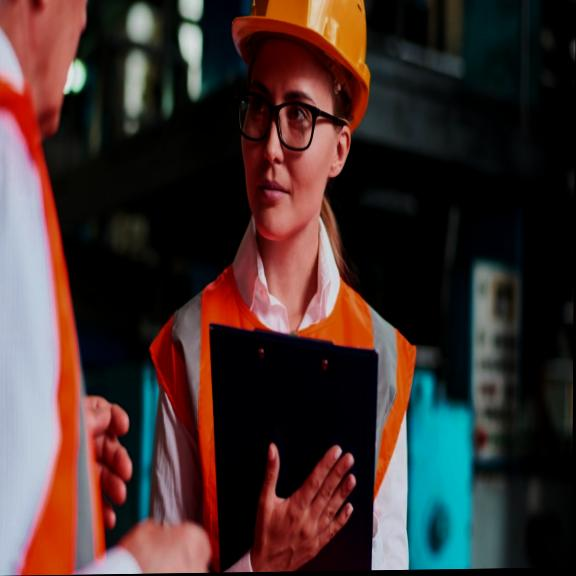safety_vest: (145, 239, 416, 574)
